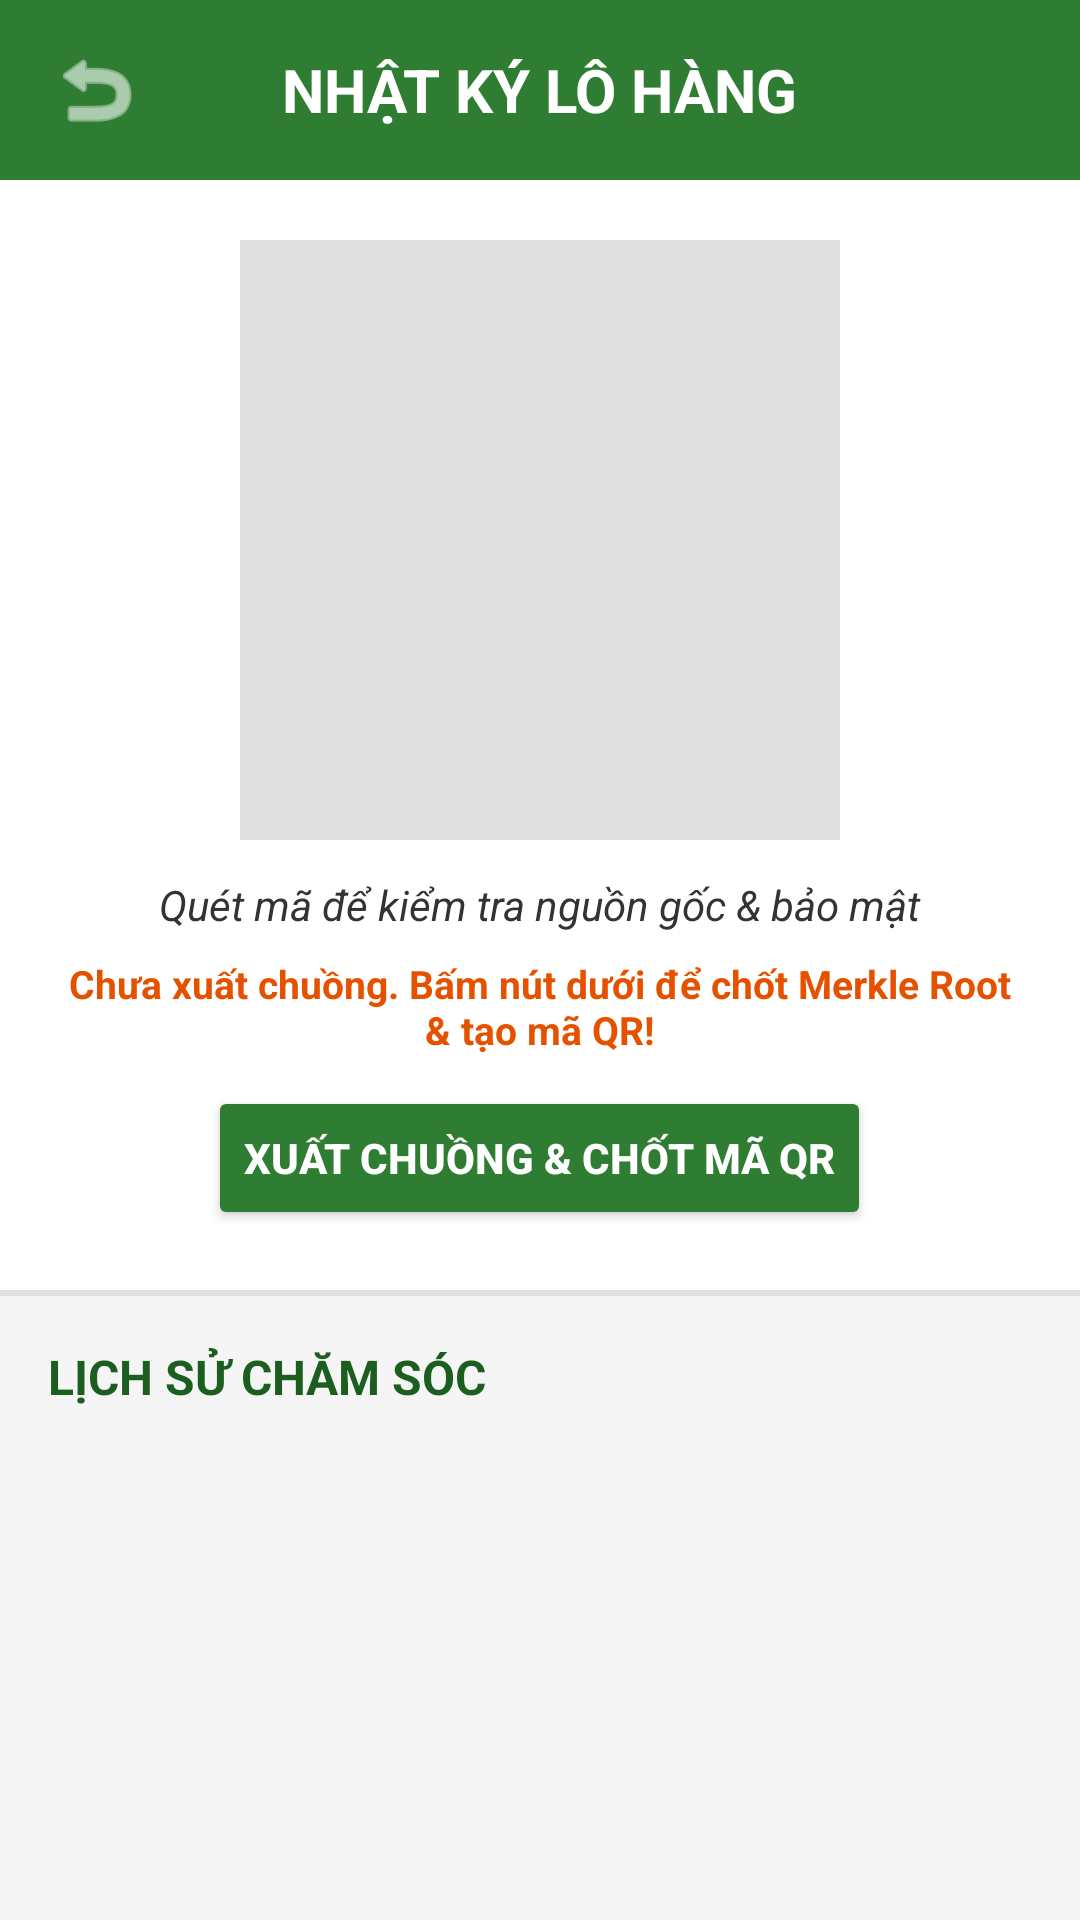

Screen size 1080×1920. Icon name, then its box in pixels as (x1, y1, x2, y2):
revert: (63, 59, 132, 122)
